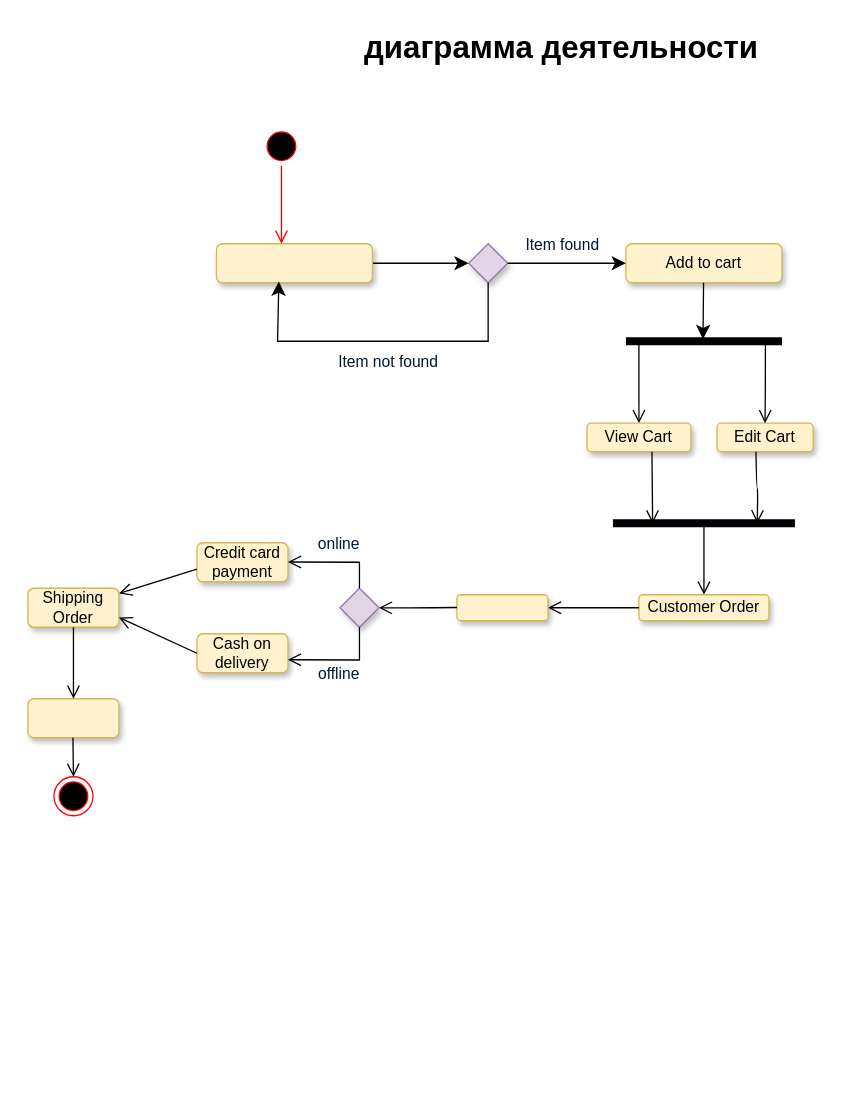
Image size: 844x1102. Some labels were removed from this diagram. The centre of each missing label's shape, as x and y in pixels:
"Payment" belongs at [503,609].
"Receive order" belongs at [74,719].
"Search item" belongs at [295,264].
